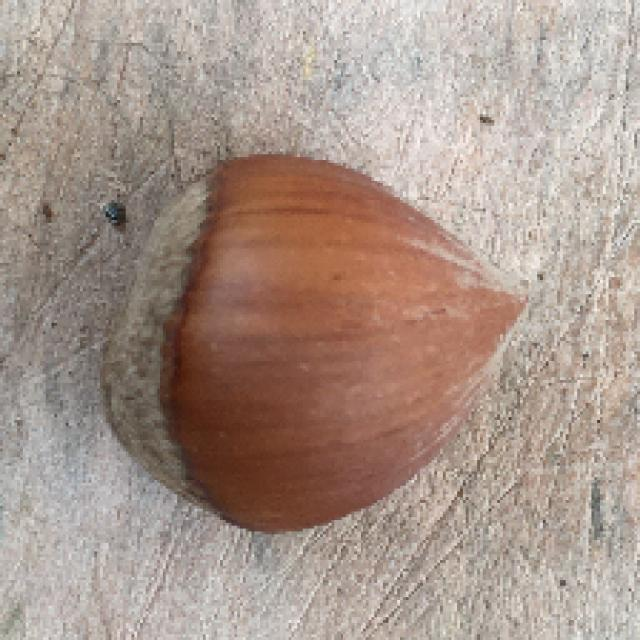qualityHazelnut: (108, 142, 532, 537)
